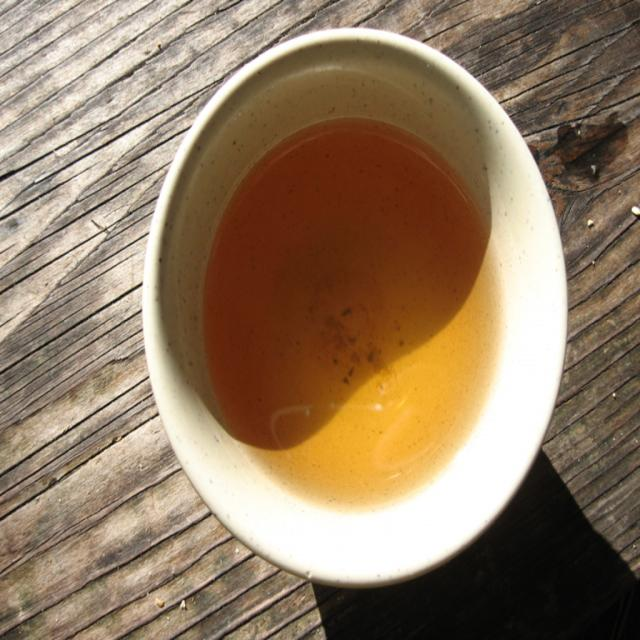Tea: (204, 121, 502, 505)
